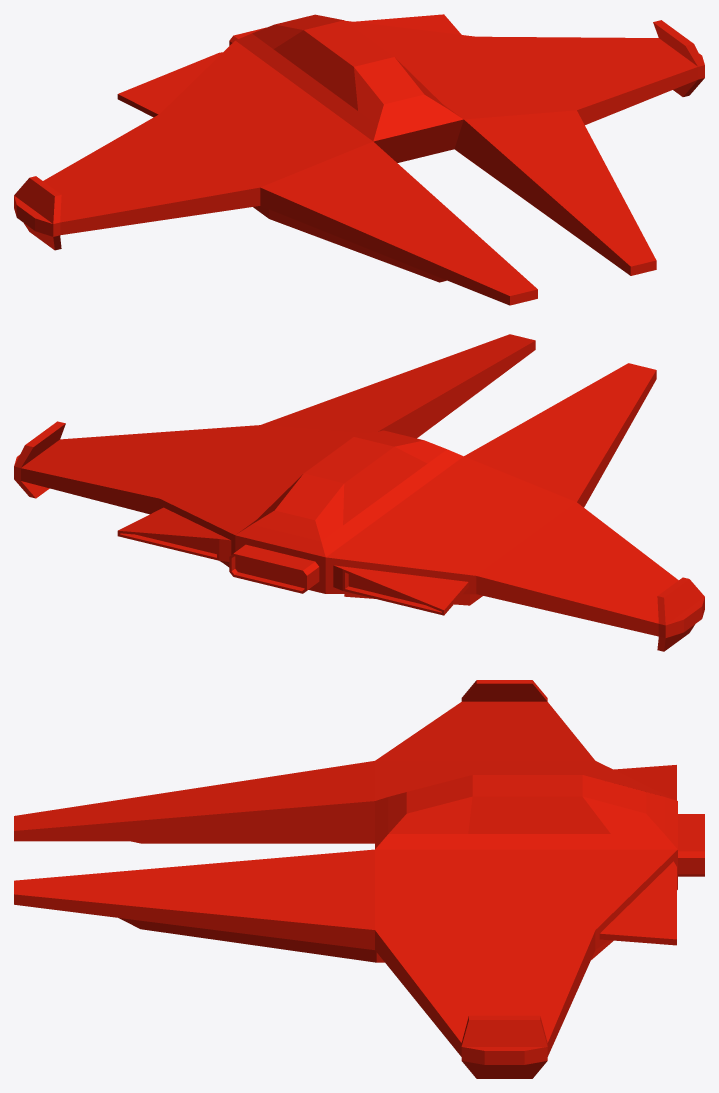
The model's file is spaceFighterA_legal.fbx.
3 renders of one model, top to bottom at view 1: azimuth 30°, elevation 25°; view 2: azimuth 150°, elevation 25°; view 3: azimuth 270°, elevation 25°, orthographic. The views are drawn at different scales.
Parts seen in each view (by area): view 1: FighterBodyA, CockPitGlass, FighterBodyB, Engines; view 2: FighterBodyA, CockPitGlass, Engines, FighterBodyB, EngineGlow; view 3: FighterBodyA, CockPitGlass, FighterBodyB, Engines.
Boxes of the visible parts, x1,y1,x2,y2 form: FighterBodyA: [14, 20, 704, 305]; CockPitGlass: [252, 14, 446, 125]; FighterBodyB: [56, 37, 667, 227]; Engines: [117, 14, 461, 117]; FighterBodyA: [14, 334, 704, 651]; CockPitGlass: [252, 430, 446, 541]; Engines: [117, 507, 468, 615]; FighterBodyB: [55, 432, 667, 625]; EngineGlow: [136, 534, 424, 604]; FighterBodyA: [14, 680, 704, 1078]; CockPitGlass: [388, 775, 664, 833]; FighterBodyB: [418, 716, 571, 1029]; Engines: [599, 765, 704, 945].
Size of the model in its own units: 728 by 117 by 595.
